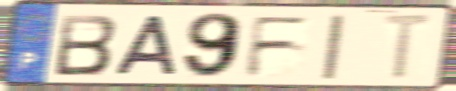9: (182, 10, 249, 82)
A: (111, 14, 180, 78)
B: (52, 12, 121, 78)
F: (242, 14, 313, 80)
I: (319, 12, 348, 81)
T: (380, 12, 438, 83)
